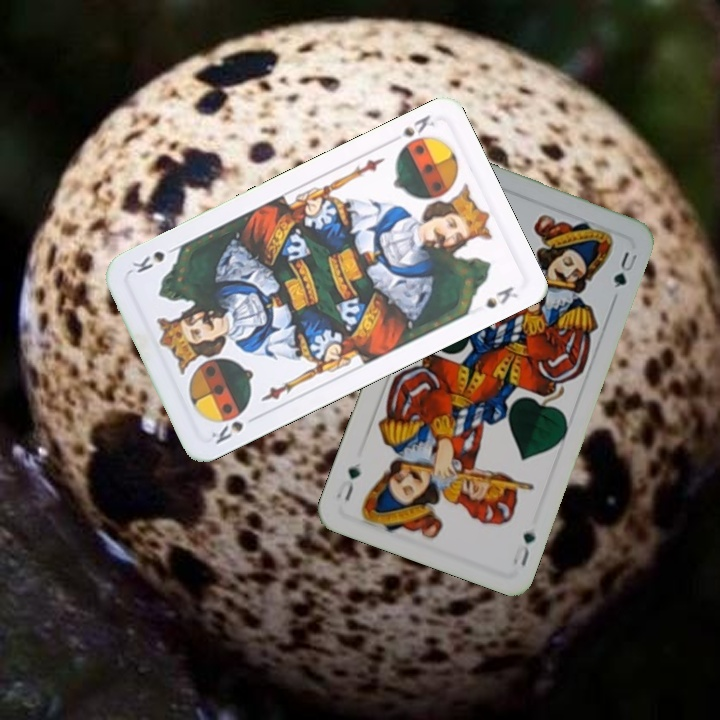GU: (509, 528, 538, 569)
SK: (207, 411, 262, 447), (395, 111, 437, 154)
